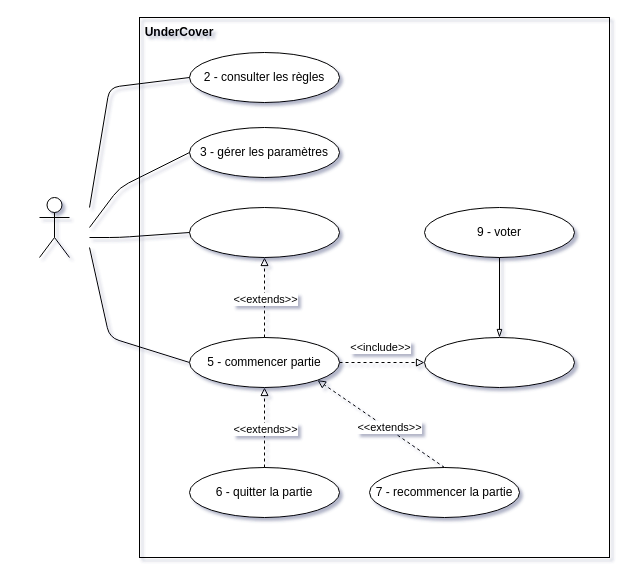
The diagram is 633 pixels wide and 581 high, and some of its shapes have lost their labels. Each missing label, with the box of its shape:
1 - utilisateurs: (38, 196, 70, 258)
4 - crée une partie: (188, 206, 340, 258)
8 - jouer son tour: (424, 336, 574, 388)
